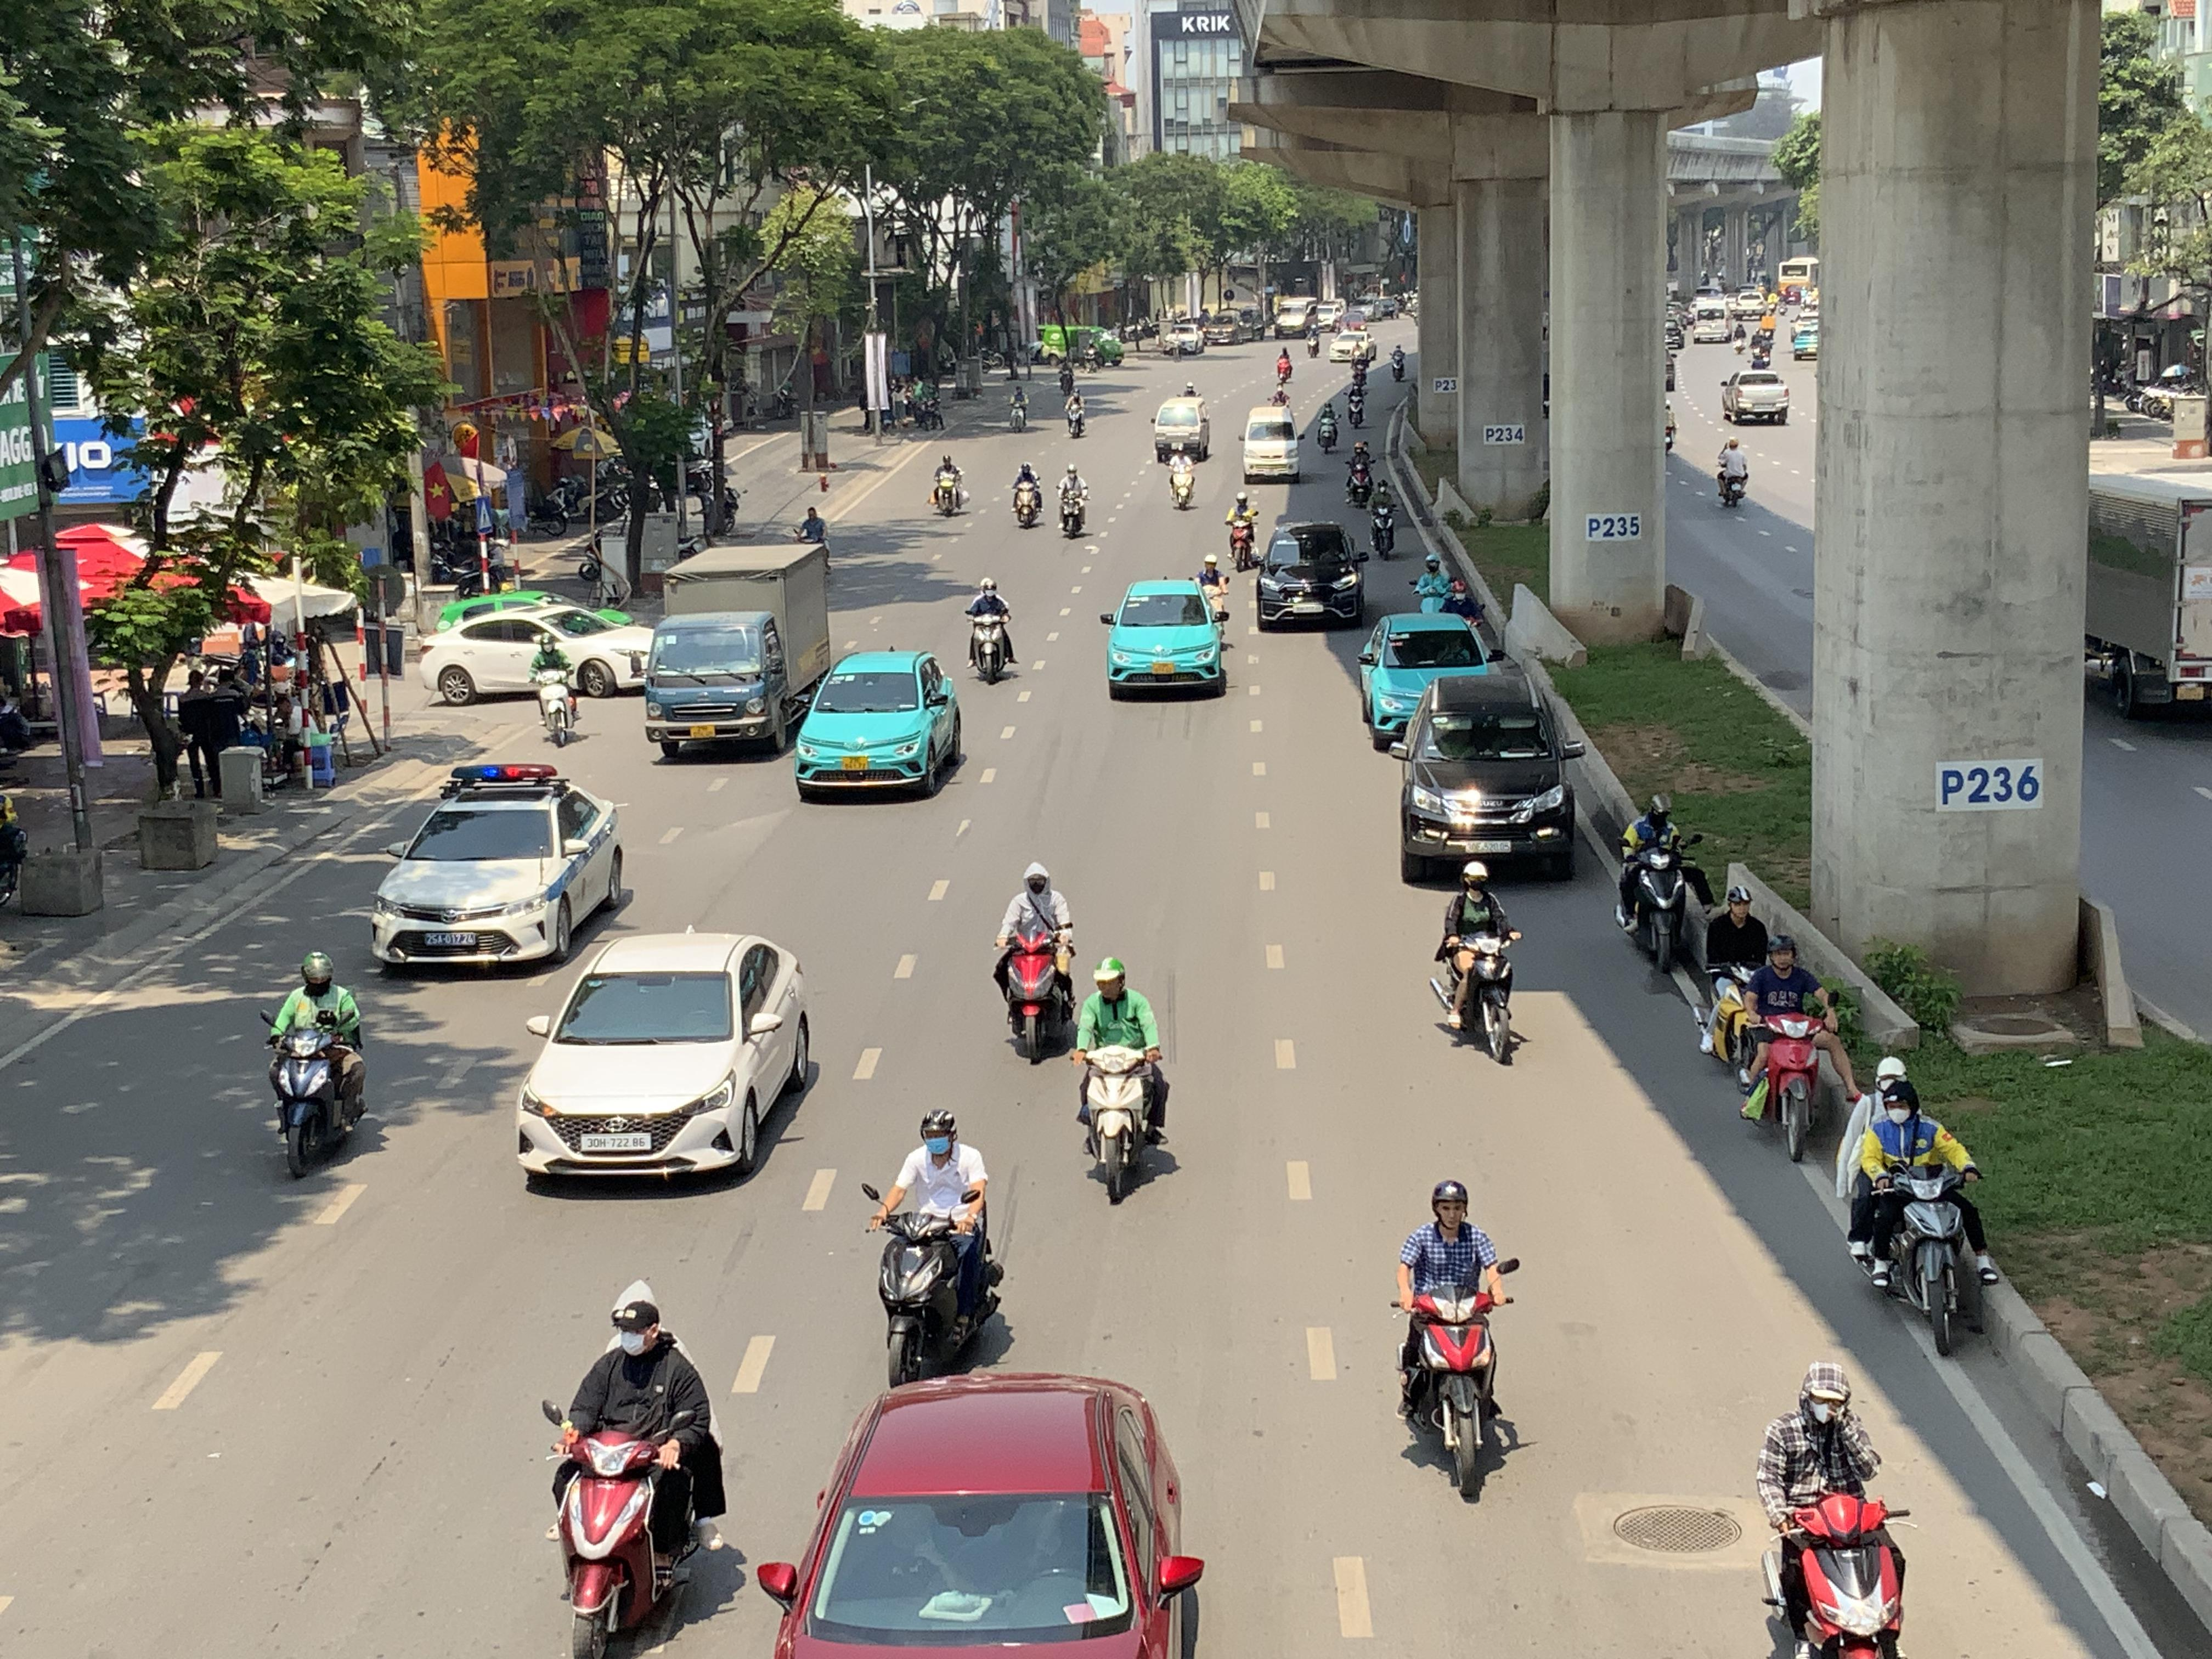BSD: (580, 1133, 651, 1150), (425, 932, 475, 946)
BSV: (841, 756, 869, 772), (690, 725, 712, 737)
car: (756, 1370, 1207, 1659), (516, 929, 820, 1190), (369, 765, 632, 972), (1390, 666, 1583, 884), (792, 650, 965, 802), (418, 605, 657, 702), (1357, 610, 1500, 746), (1101, 579, 1231, 699), (1254, 519, 1367, 631), (1240, 406, 1301, 481), (1151, 394, 1212, 462), (1721, 368, 1791, 423)
motorbike: (545, 1279, 728, 1659), (1839, 1060, 1994, 1359), (1756, 1363, 1912, 1659), (864, 1107, 1010, 1387), (1393, 1178, 1519, 1504), (1735, 931, 1839, 1164), (1075, 957, 1170, 1206), (265, 950, 368, 1180), (1432, 861, 1524, 1065), (1615, 793, 1712, 978), (993, 863, 1078, 1066), (1696, 884, 1773, 1073), (965, 575, 1017, 683), (533, 636, 580, 748), (1224, 491, 1259, 572), (930, 451, 970, 519), (1055, 462, 1090, 538), (1193, 551, 1231, 620), (1367, 479, 1399, 559), (1716, 437, 1749, 507), (1012, 458, 1043, 528), (1343, 439, 1374, 509), (1167, 446, 1197, 511), (1064, 385, 1089, 441)
truck: (643, 542, 833, 760), (2085, 448, 2212, 720)
